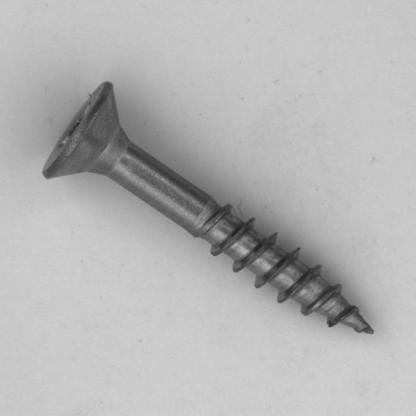metal: (41, 80, 374, 335)
